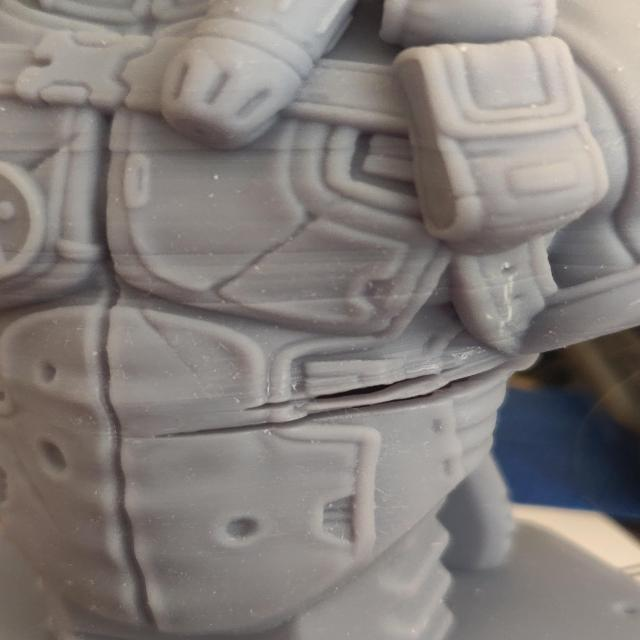cracks: (194, 346, 559, 444)
